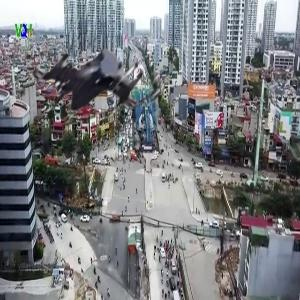drone: (22, 31, 147, 156)
